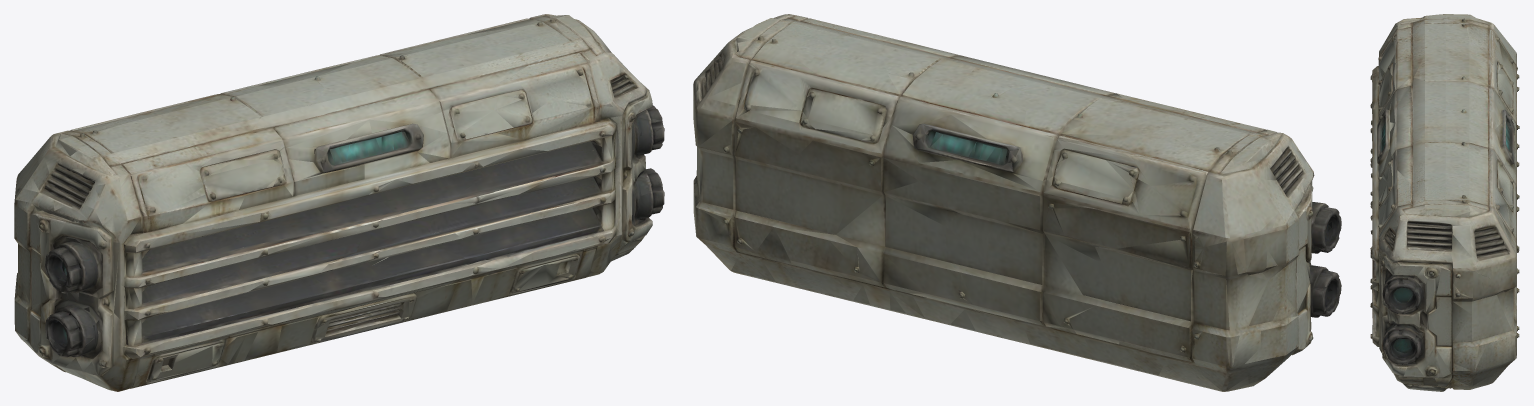
The model's file is QuarantineAirHandler.glb.
3 views of the same model, side by side, from view 1: azimuth 30°, elevation 25°; view 2: azimuth 150°, elevation 25°; view 3: azimuth 270°, elevation 25° (orthographic). The views are drawn at different scales.
Parts seen in each view (by area): view 1: tripo_node_2475c3a8-d887-4587-ad69-26f6f9f7743c; view 2: tripo_node_2475c3a8-d887-4587-ad69-26f6f9f7743c; view 3: tripo_node_2475c3a8-d887-4587-ad69-26f6f9f7743c.
Part boxes in pixels (x1=…): tripo_node_2475c3a8-d887-4587-ad69-26f6f9f7743c: x1=14, y1=14, x2=664, y2=391; tripo_node_2475c3a8-d887-4587-ad69-26f6f9f7743c: x1=693, y1=14, x2=1341, y2=391; tripo_node_2475c3a8-d887-4587-ad69-26f6f9f7743c: x1=1370, y1=14, x2=1519, y2=391.
Size of the model in its own units: 0.9792 by 0.3545 by 0.2662.
Materials: 1 (1 with a texture image).
